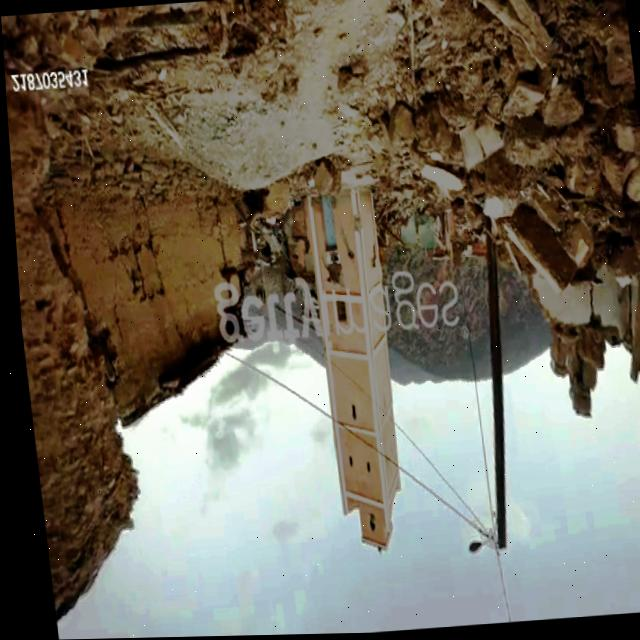poles: (483, 243, 503, 553)
wires: (224, 271, 503, 624)
